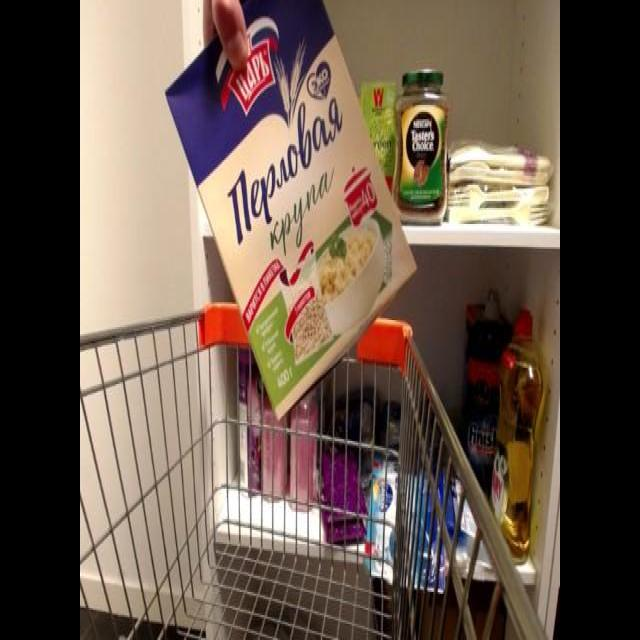Groats: (163, 2, 420, 428)
